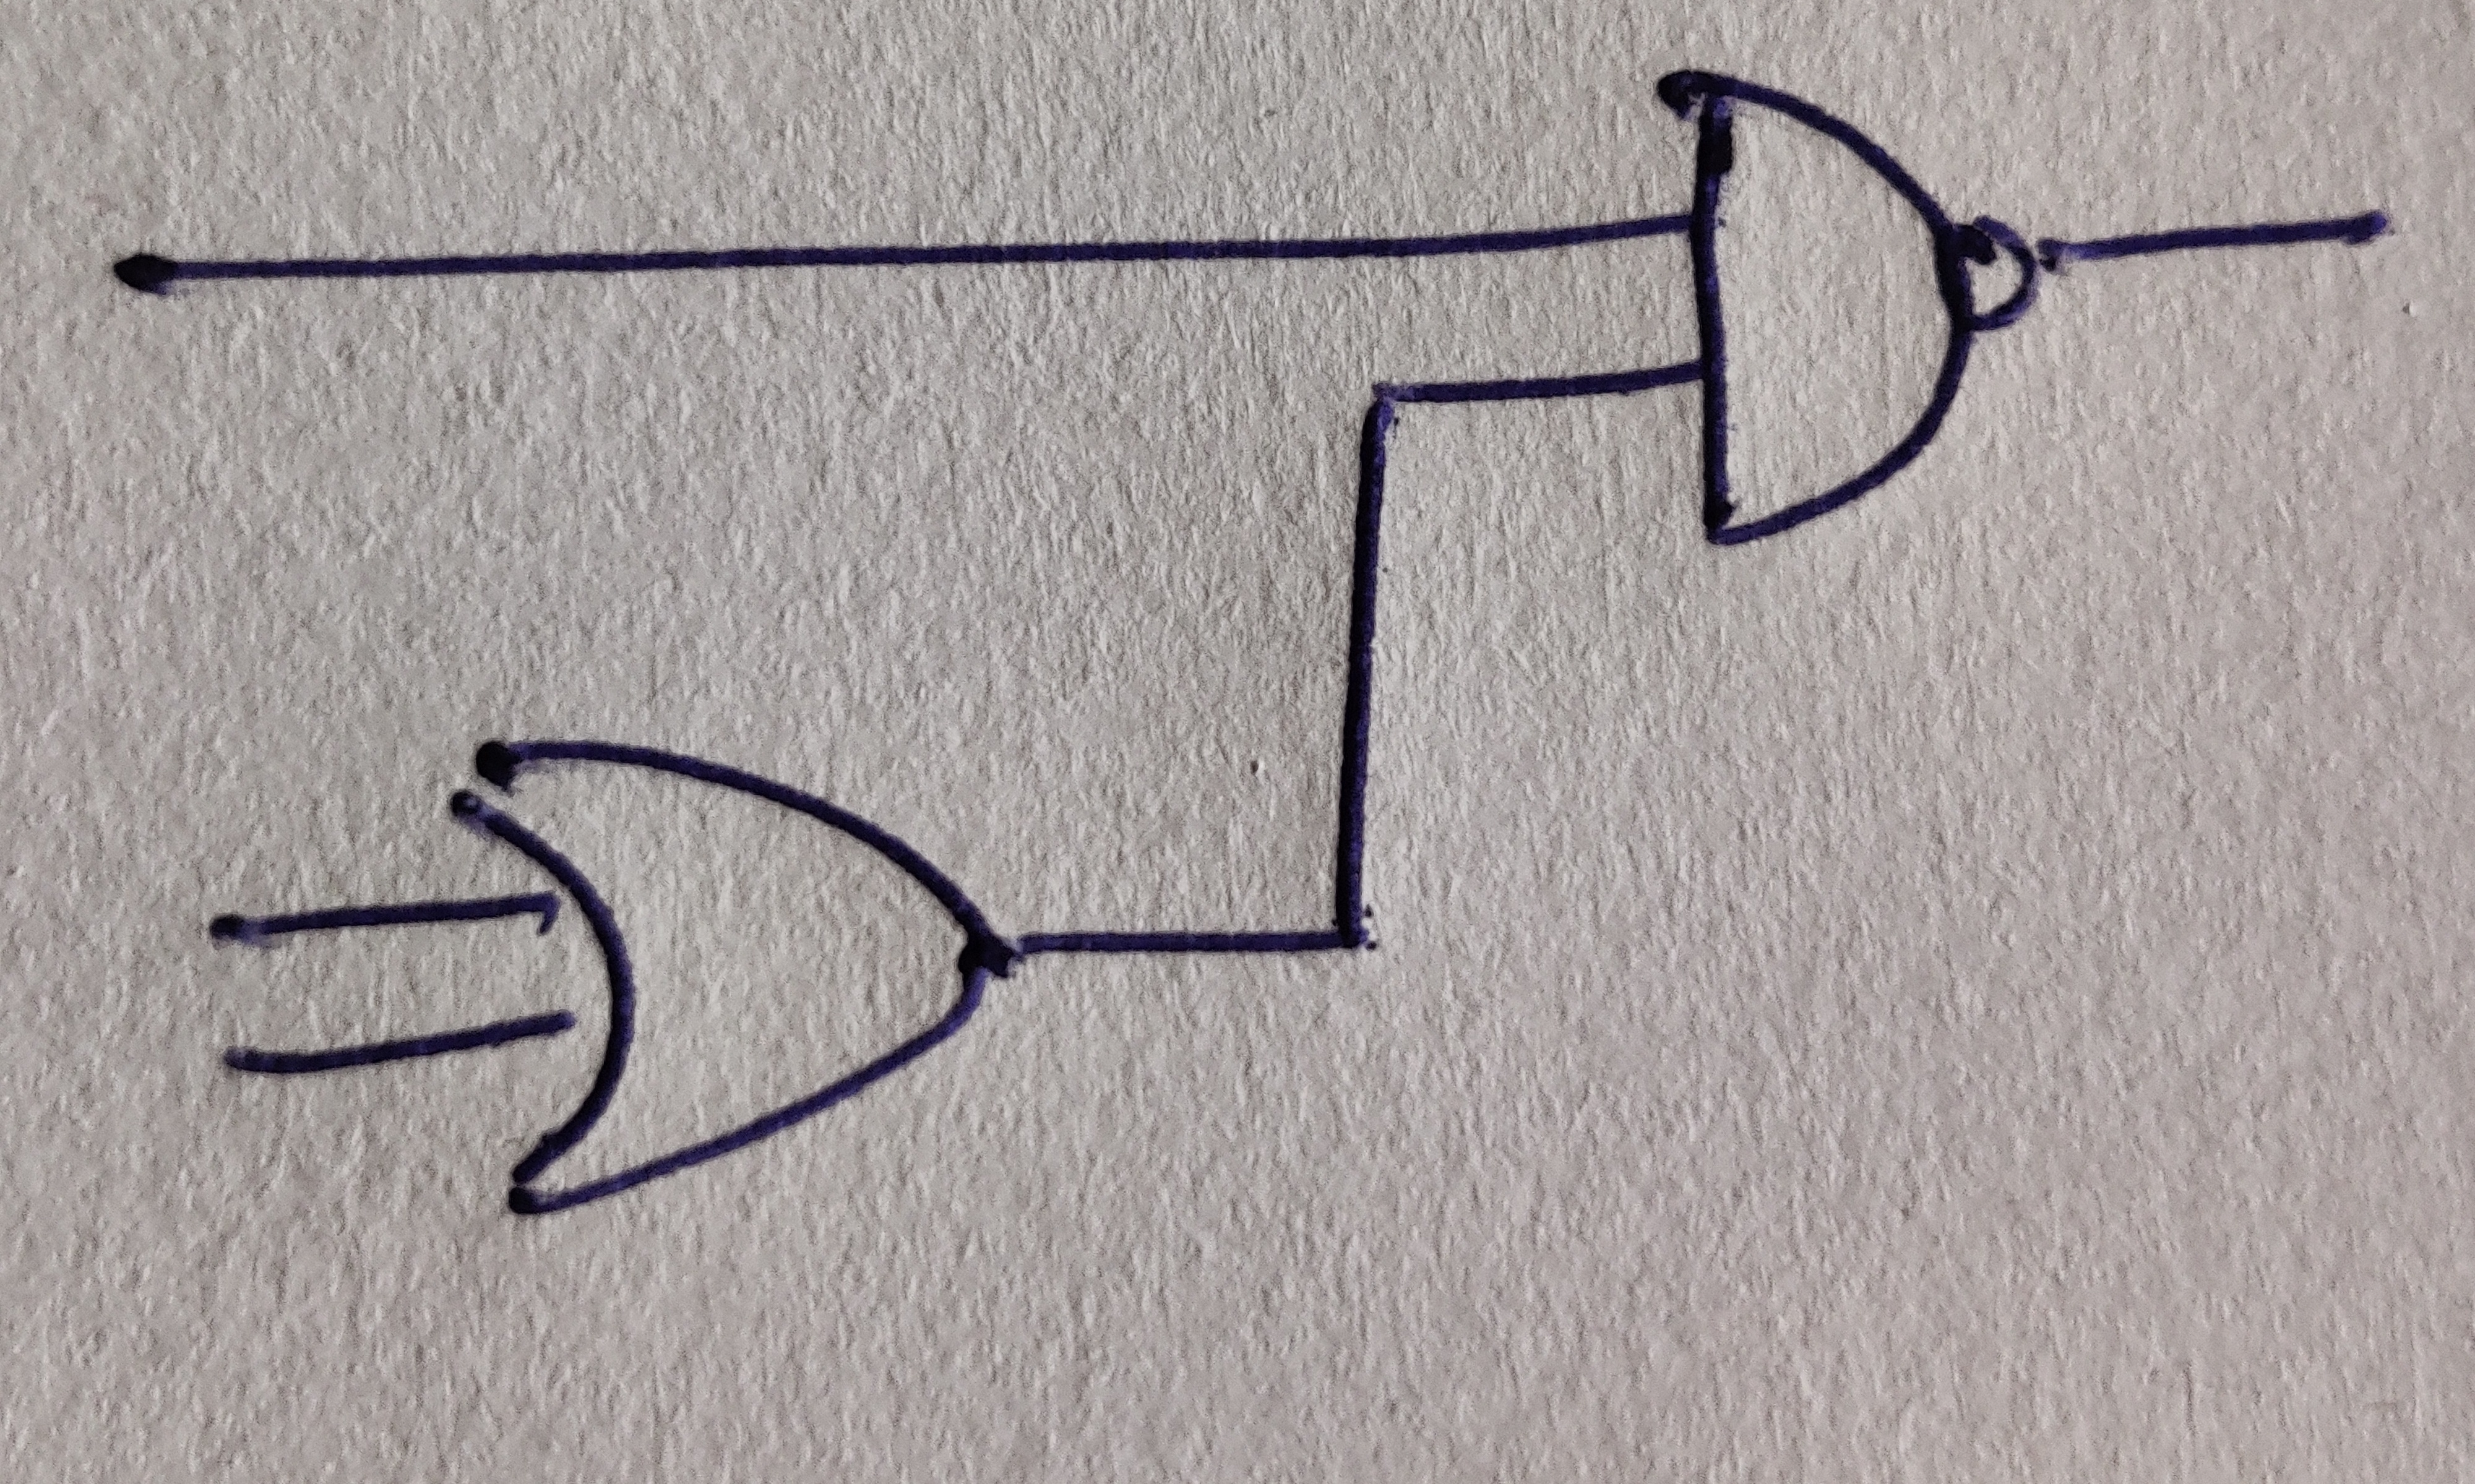and: (1659, 72, 1973, 544)
not: (1938, 219, 2040, 334)
or: (450, 744, 993, 1214)
